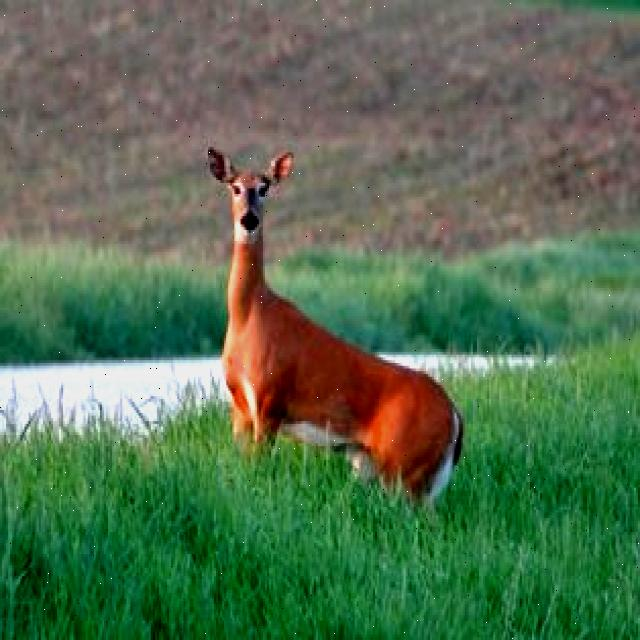deer: (194, 141, 305, 254)
